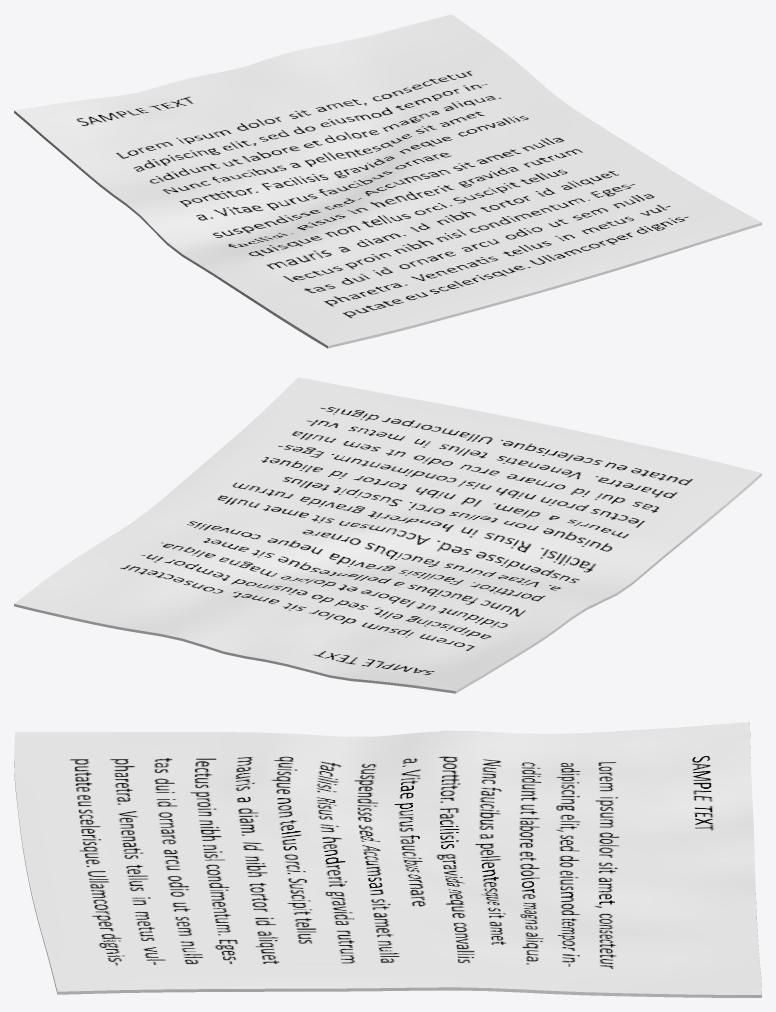
The model's file is SM_TestPage.fbx.
3 views of the same model, one above another, from view 1: azimuth 30°, elevation 25°; view 2: azimuth 150°, elevation 25°; view 3: azimuth 270°, elevation 25° (orthographic). The views are drawn at different scales.
Parts seen in each view (by area): view 1: TestPage; view 2: TestPage; view 3: TestPage.
Boxes of the visible parts, x1,y1,x2,y2 form: TestPage: (14, 14, 761, 348); TestPage: (14, 377, 761, 693); TestPage: (14, 722, 761, 997).
Bounding box in the file's own units: 34.04 × 1.53 × 40.75.
Materials: 1 (1 with a texture image).
